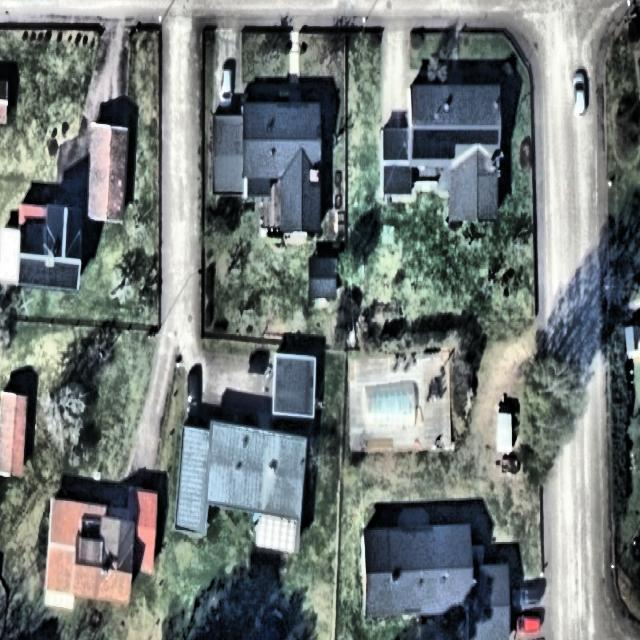roof_pv: (21, 256, 80, 294), (410, 131, 455, 161), (455, 129, 500, 147)
